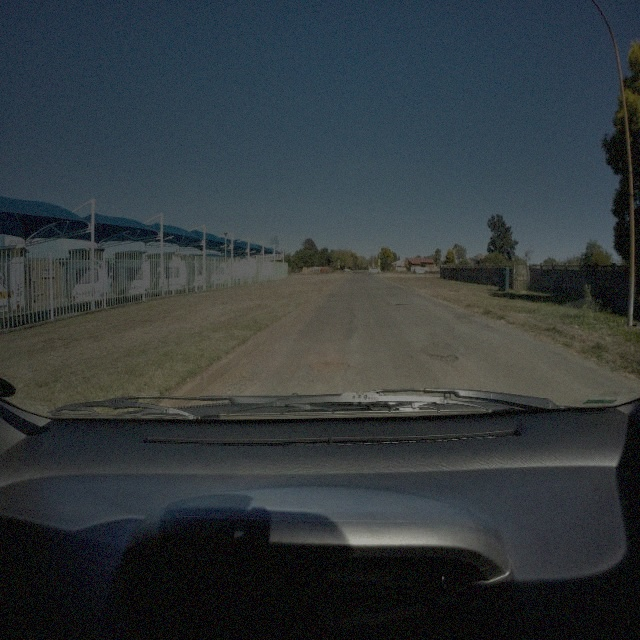pothole: (308, 358, 350, 372), (428, 350, 458, 364)
